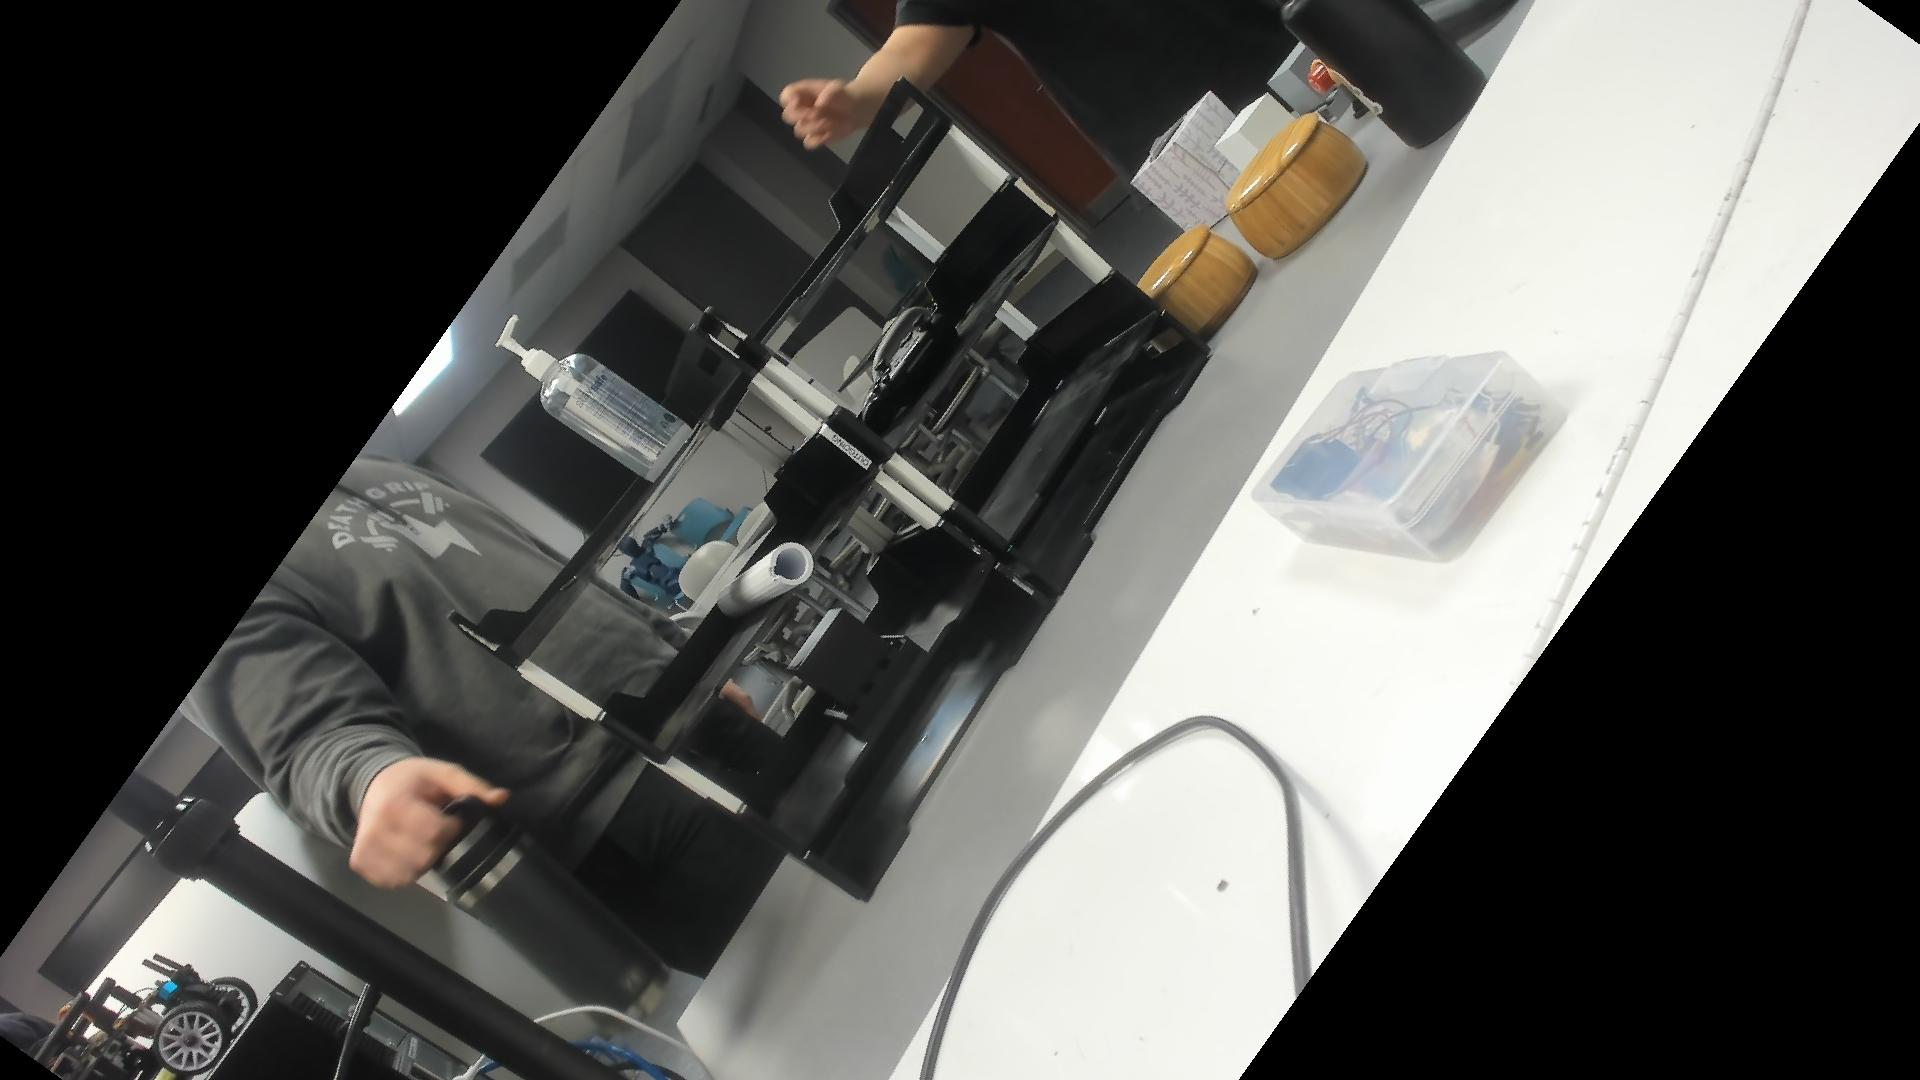black pallet: (785, 604, 927, 748)
grey pallet: (1266, 36, 1357, 127)
white pallet: (1212, 90, 1296, 174)
